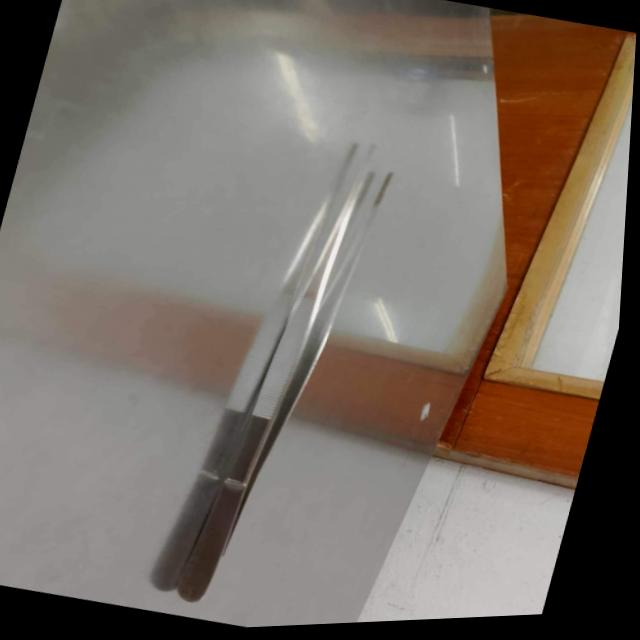General: (1, 1, 634, 629)
Sharps: (171, 144, 394, 602)
